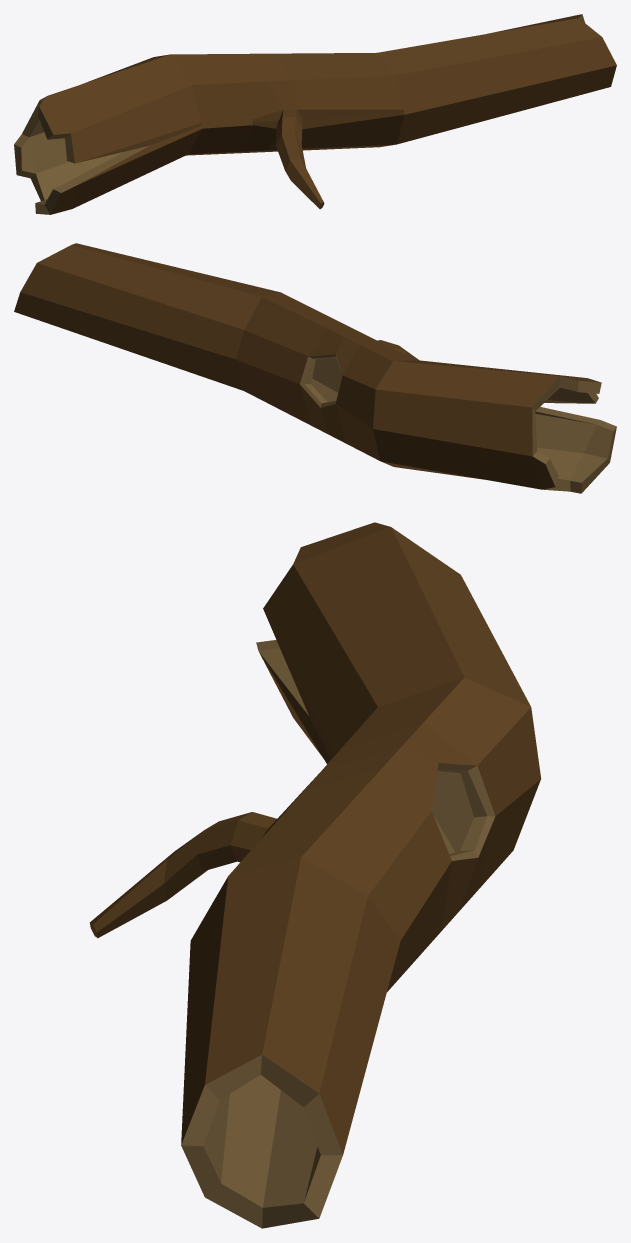
Rendered from log.fbx.
3 views of the same model, one above another, from view 1: azimuth 30°, elevation 25°; view 2: azimuth 150°, elevation 25°; view 3: azimuth 270°, elevation 25° (orthographic). The views are drawn at different scales.
Parts seen in each view (by area): view 1: Log; view 2: Log; view 3: Log.
Boxes of the visible parts, box(x1,y1,x2,y2) form: Log: box(14, 14, 616, 214); Log: box(14, 243, 616, 493); Log: box(89, 522, 541, 1228).
Bounding box in the file's own units: 602 × 114 × 209.
